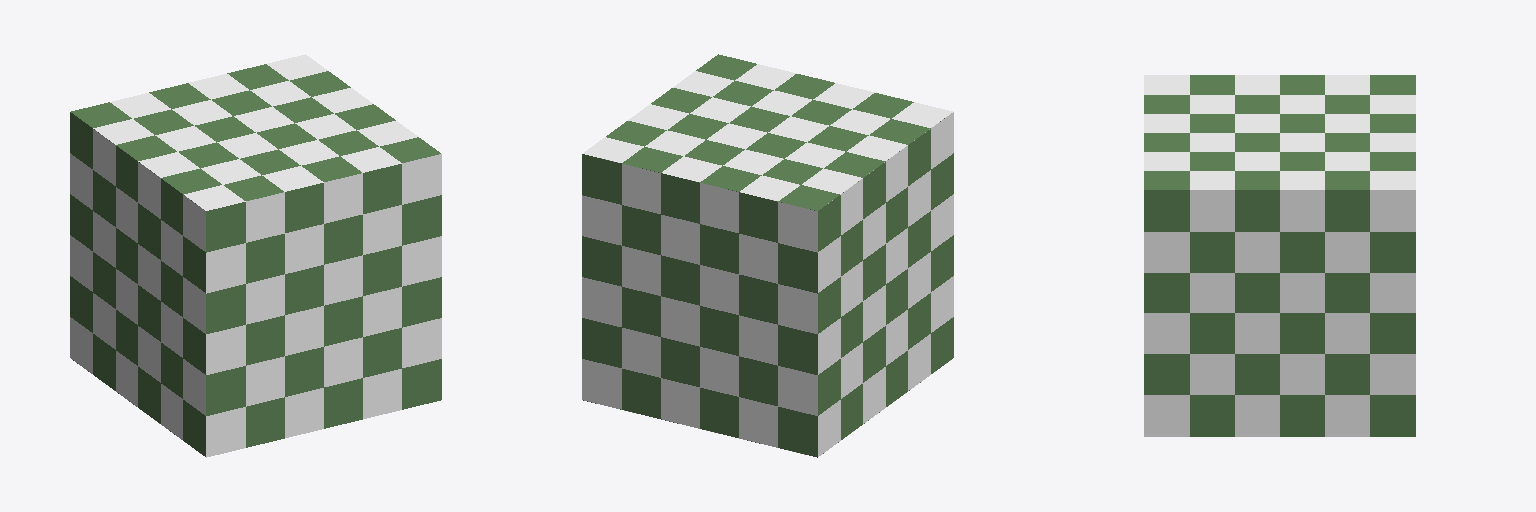
3 views of the same model, side by side, from view 1: azimuth 30°, elevation 25°; view 2: azimuth 150°, elevation 25°; view 3: azimuth 270°, elevation 25° (orthographic).
Parts seen in each view (by area): view 1: Cube; view 2: Cube; view 3: Cube.
Boxes of the visible parts, x1=… form: Cube: x1=70, y1=54, x2=441, y2=457; Cube: x1=582, y1=54, x2=953, y2=457; Cube: x1=1144, y1=75, x2=1415, y2=436.
Size of the model in its own units: 2 by 2 by 2.
1 materials, 1 textured.